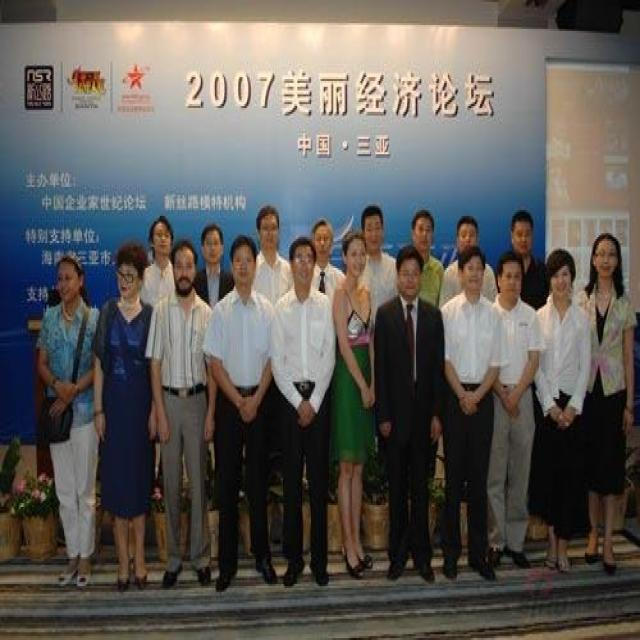non-fight: (261, 229, 334, 588), (208, 235, 279, 596), (373, 241, 444, 582), (147, 231, 213, 588), (571, 232, 639, 572), (36, 251, 104, 582), (92, 245, 158, 585), (480, 241, 539, 569), (439, 242, 495, 581), (535, 248, 590, 571), (333, 232, 378, 576)
